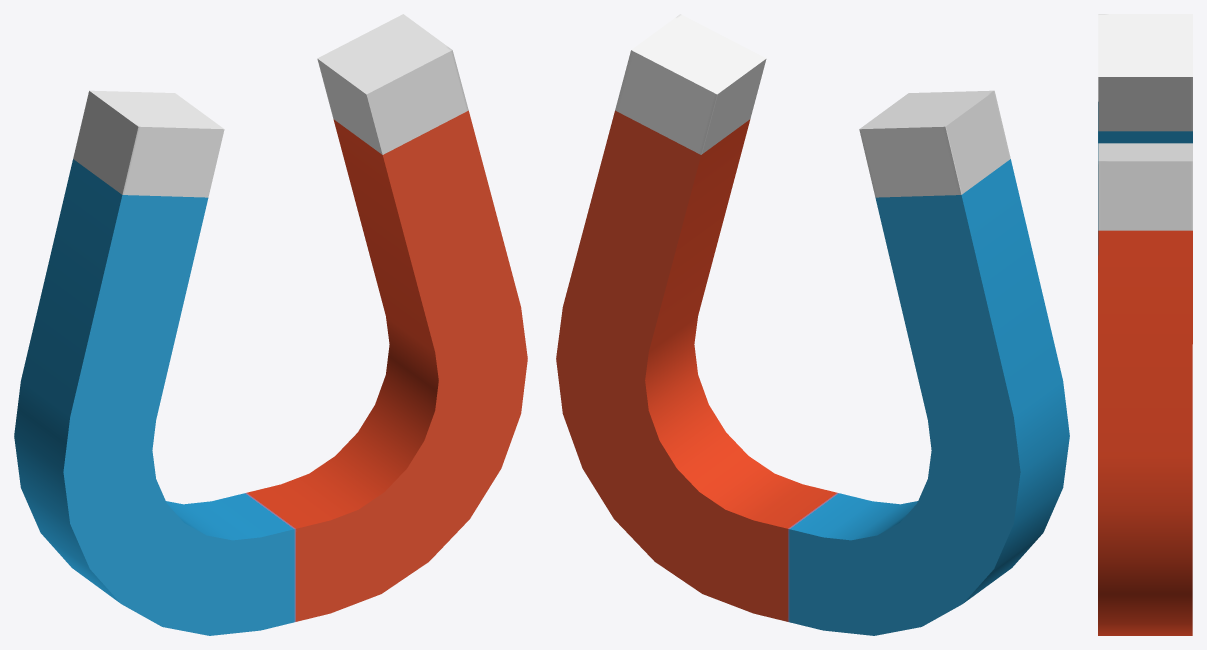
File: ENV2010086.fbx
The picture shows the model from 3 angles, left to right: view 1: azimuth 30°, elevation 25°; view 2: azimuth 150°, elevation 25°; view 3: azimuth 270°, elevation 25°; orthographic projection. The views are drawn at different scales.
Visible parts, largest first — view 1: smENV2010086; view 2: smENV2010086; view 3: smENV2010086.
Boxes of the visible parts, box(x1,y1,x2,y2) form: smENV2010086: box(14, 14, 527, 635); smENV2010086: box(556, 14, 1069, 635); smENV2010086: box(1098, 14, 1192, 635).
Bounding box in the file's own units: 9.88 × 10.84 × 1.82.
Materials: 1 (1 with a texture image).
